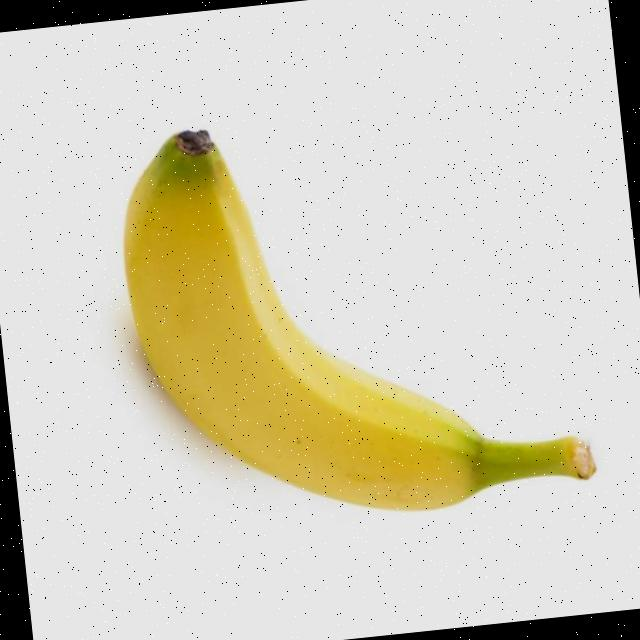banana: (109, 86, 600, 539)
